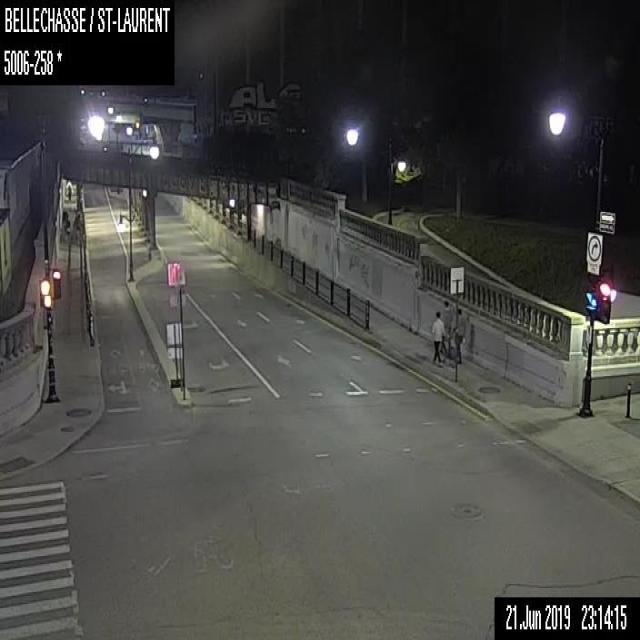pedestrian: (430, 310, 448, 365), (450, 307, 466, 363), (440, 299, 451, 355), (66, 181, 71, 200)
